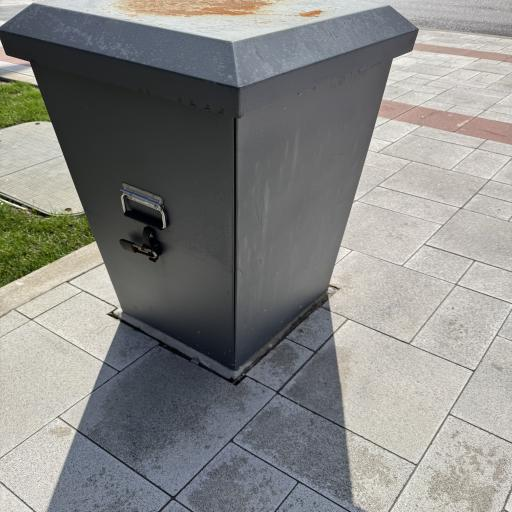Electrical Box: (0, 0, 421, 369)
